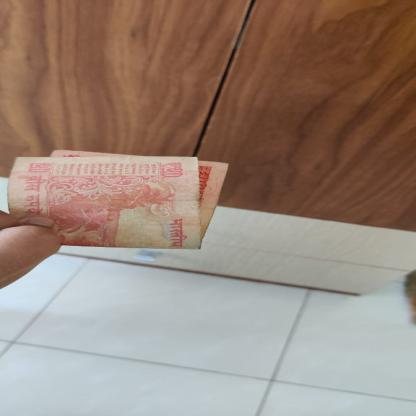Old20Back: (5, 163, 199, 248)
